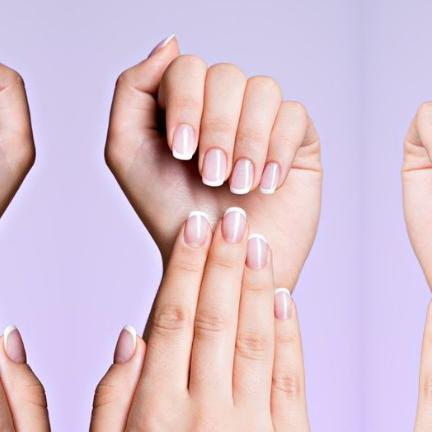Nail: (201, 147, 226, 186), (112, 324, 135, 364), (3, 324, 26, 364), (222, 206, 246, 243), (184, 211, 208, 248), (229, 158, 253, 194), (245, 233, 267, 270), (172, 123, 194, 160), (259, 161, 279, 195), (147, 34, 174, 57), (273, 287, 291, 320), (431, 300, 432, 314)
